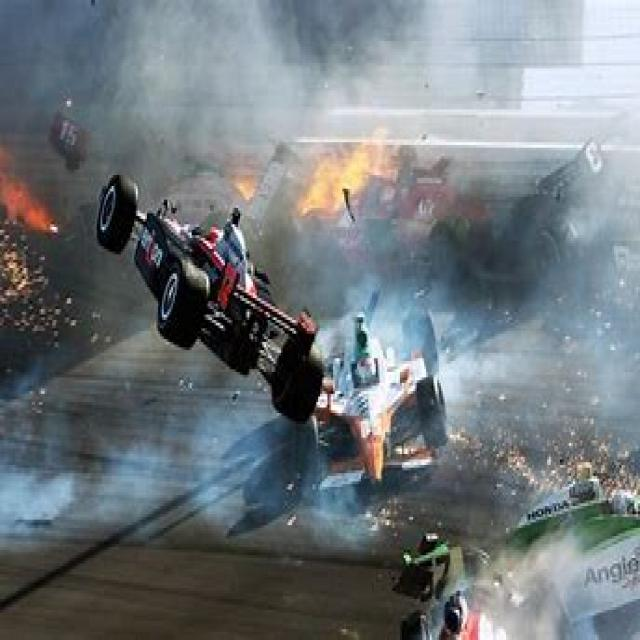Accident: (80, 134, 640, 522)
